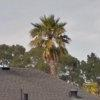Palm tree: (28, 10, 77, 75)
